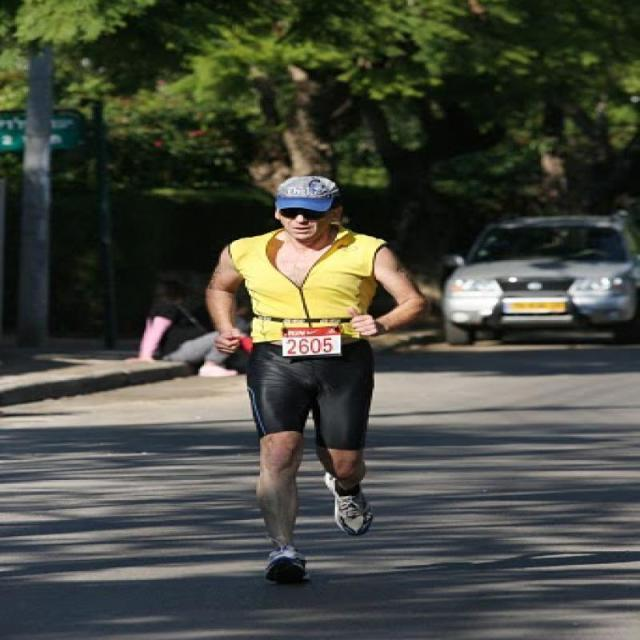dorsal: (276, 324, 350, 360)
